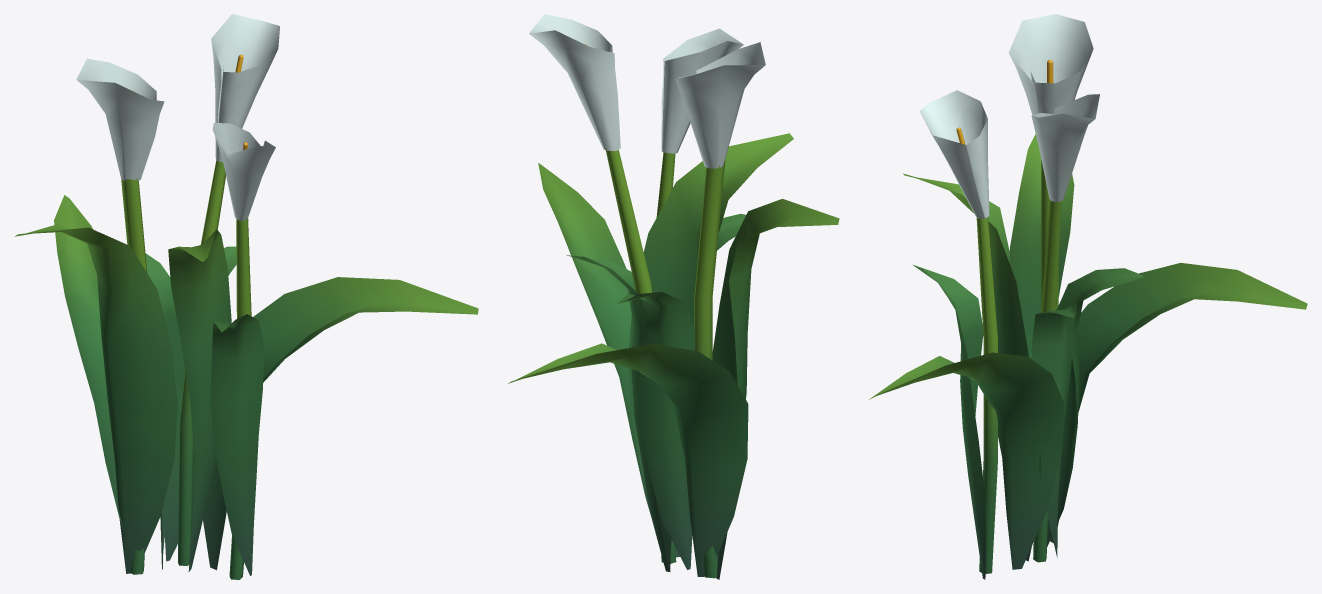
The model's file is flower_base_material_0.fbx.
3 renders of one model, left to right at view 1: azimuth 30°, elevation 25°; view 2: azimuth 150°, elevation 25°; view 3: azimuth 270°, elevation 25°, orthographic. The views are drawn at different scales.
Visible parts, largest first — view 1: flower_base_material_0; view 2: flower_base_material_0; view 3: flower_base_material_0.
Boxes of the visible parts, box(x1,y1,x2,y2) form: flower_base_material_0: box(15, 14, 478, 579); flower_base_material_0: box(508, 14, 839, 579); flower_base_material_0: box(869, 14, 1307, 579).
Bounding box in the file's own units: 2.14 × 2.19 × 2.78.
1 material, 1 textured.
